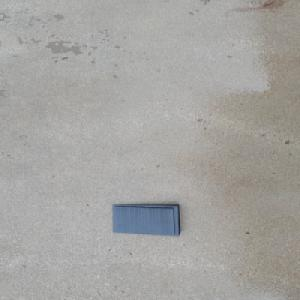PlasticPart: (111, 203, 181, 236)
